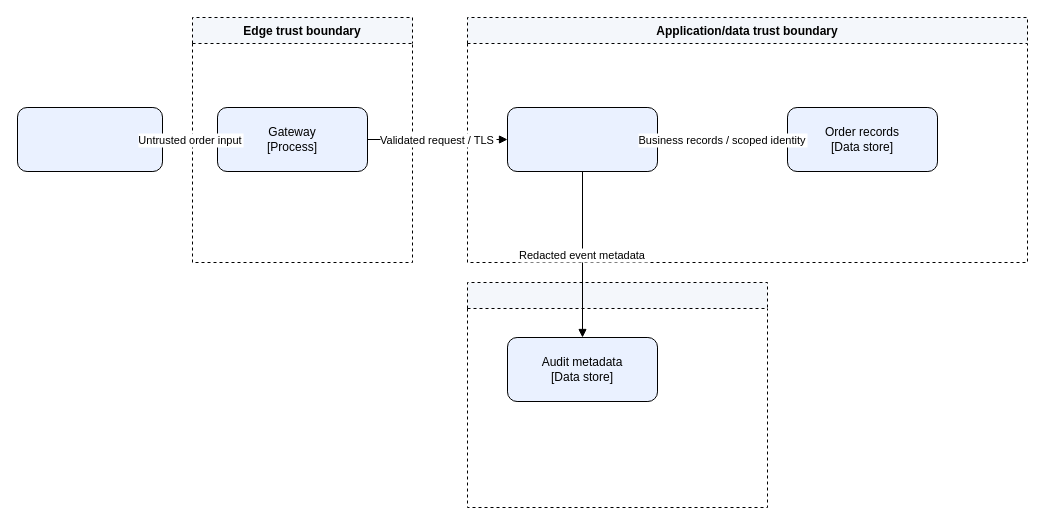
Image size: 1045x525. Some labels were removed from this diagram. Each missing label, with the box of its shape:
External user [Entity]: (16, 106, 162, 172)
Order processing [Process]: (506, 106, 658, 172)
Separate audit trust boundary: (466, 282, 768, 508)
